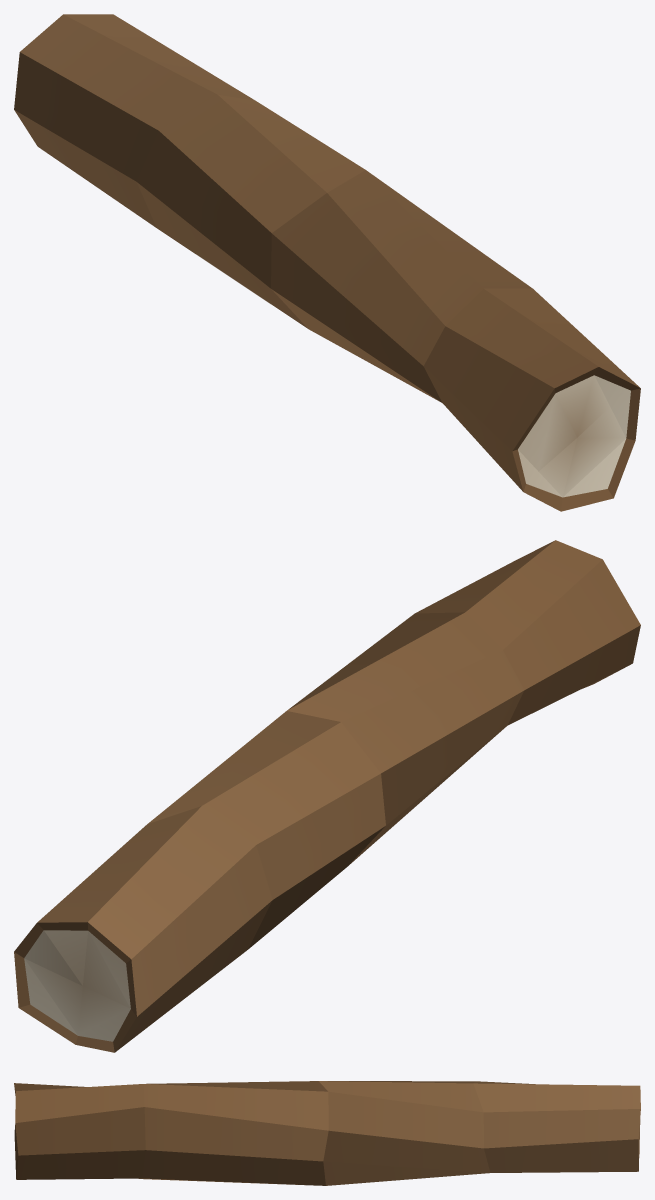
The model's file is log_straight.fbx.
3 views of the same model, one above another, from view 1: azimuth 30°, elevation 25°; view 2: azimuth 150°, elevation 25°; view 3: azimuth 270°, elevation 25° (orthographic). The views are drawn at different scales.
Visible parts, largest first — view 1: log_straight; view 2: log_straight; view 3: log_straight.
Part boxes in pixels (left/top/right/bottom): log_straight: left=14, top=14, right=640, bottom=511; log_straight: left=14, top=540, right=640, bottom=1052; log_straight: left=14, top=1081, right=640, bottom=1185.
Size of the model in its own units: 0.6054 by 0.55 by 3.5.
Materials: 1 (1 with a texture image).
